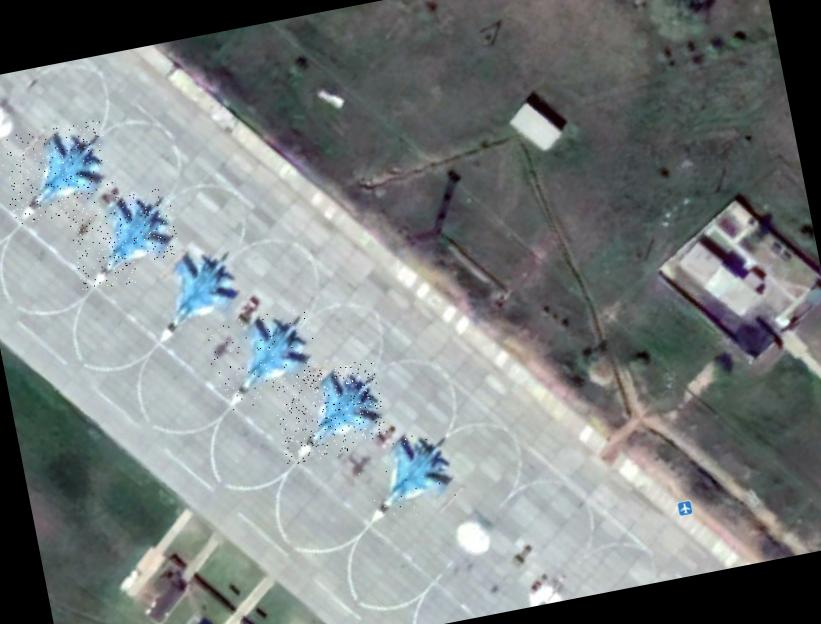A19: (269, 358, 389, 466), (65, 185, 185, 292), (134, 243, 254, 350), (203, 306, 323, 413), (348, 423, 468, 530), (0, 118, 116, 225)
